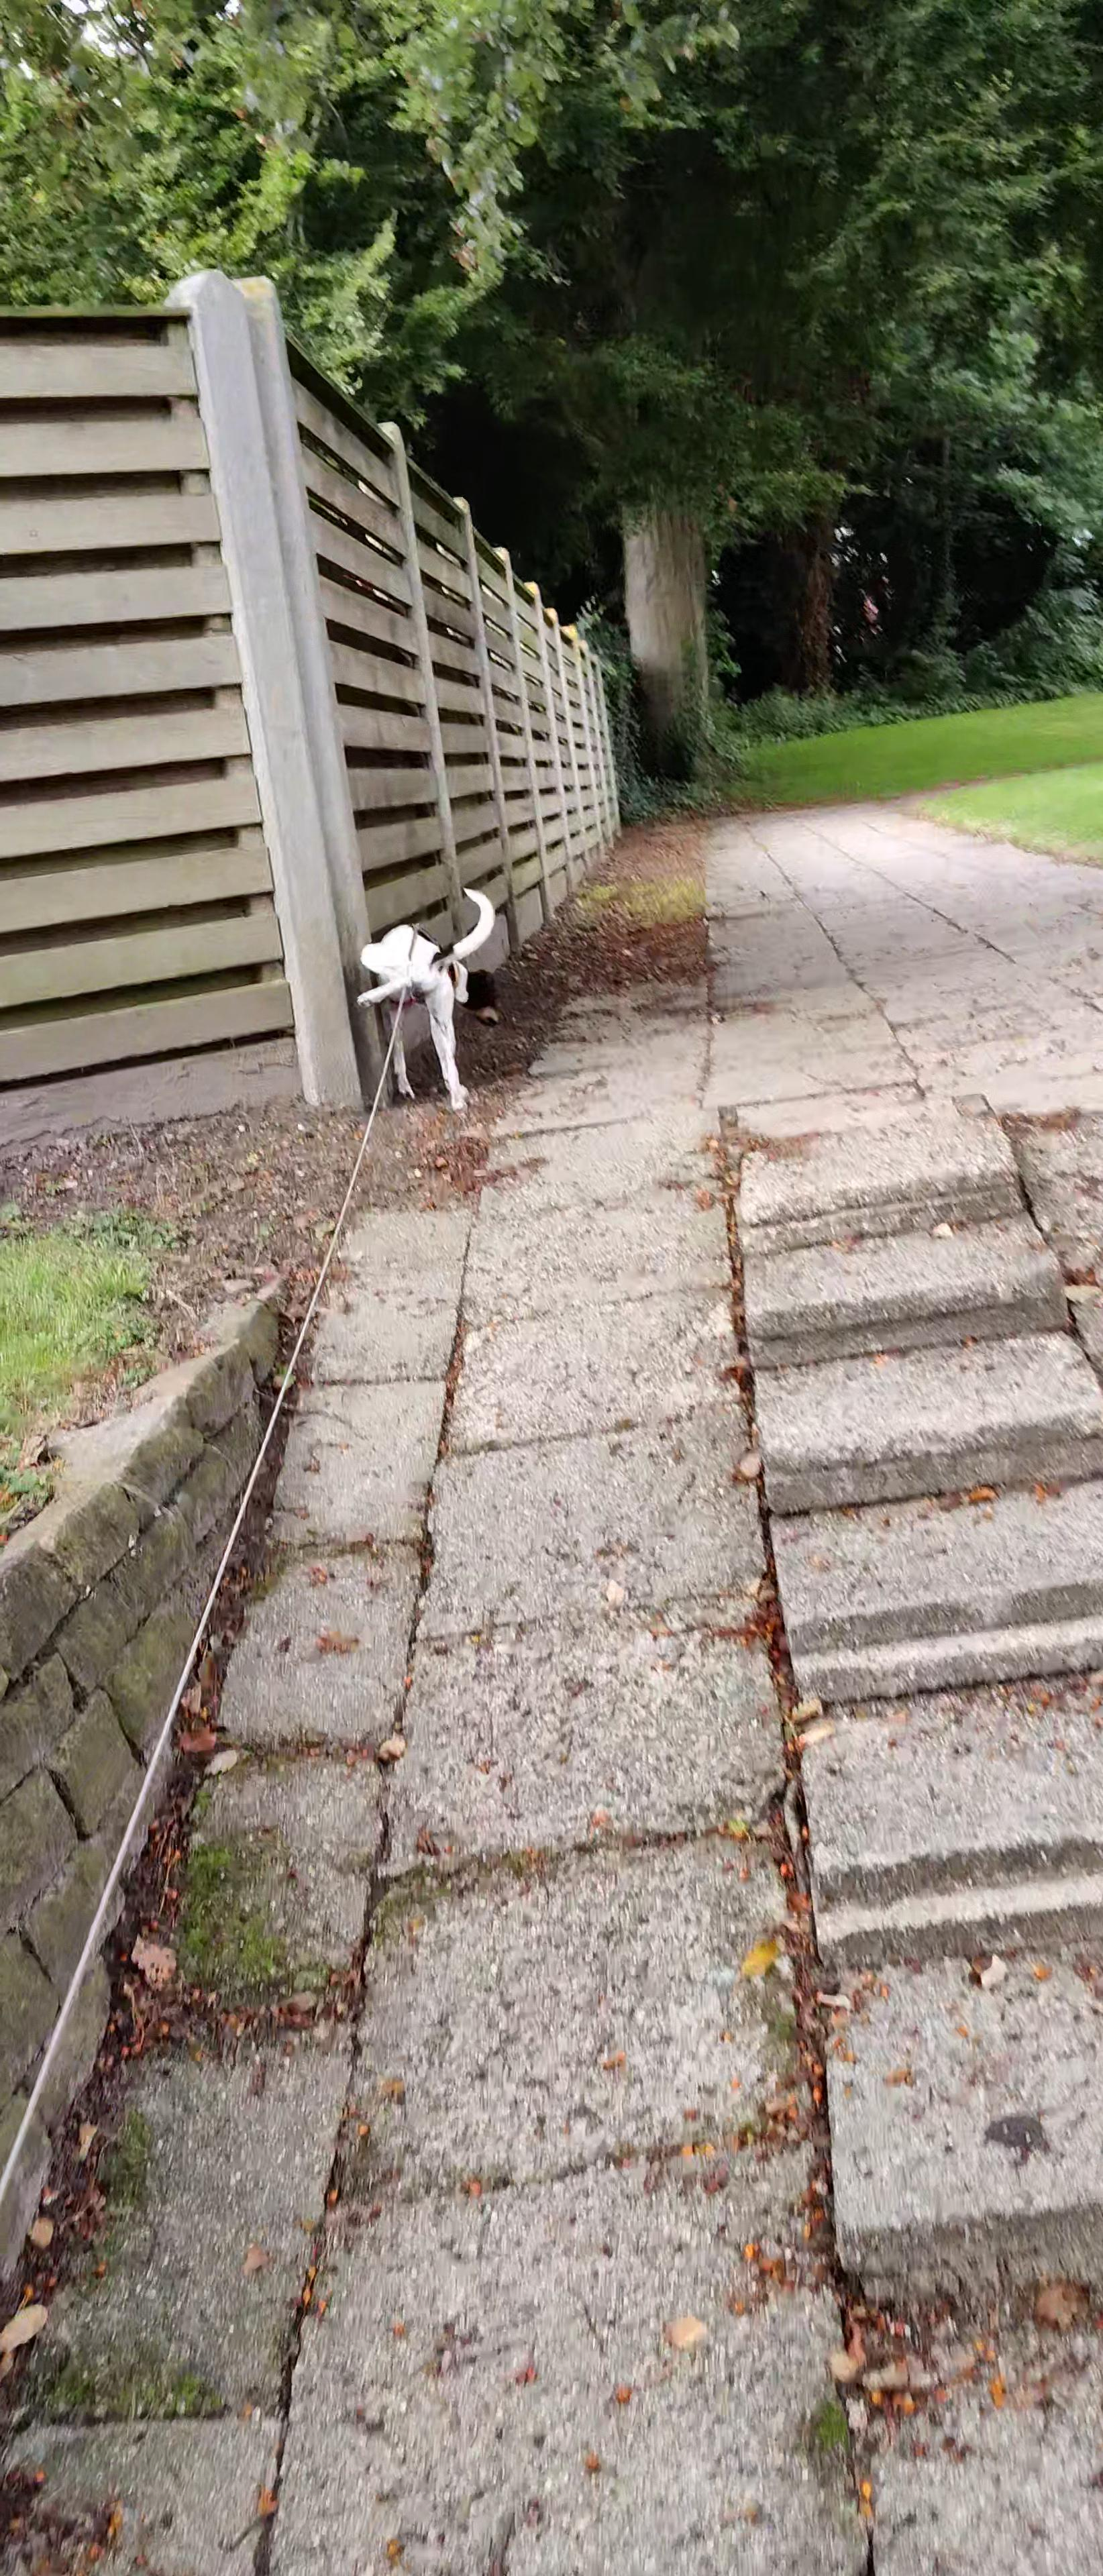Dog: (332, 872, 519, 1130)
